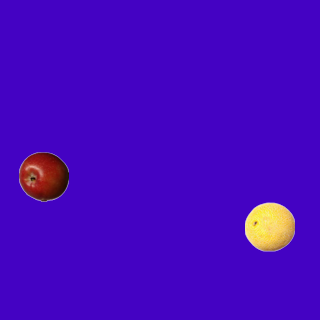Apple Braeburn: (18, 151, 68, 201)
Cantaloupe 1: (244, 201, 294, 251)
